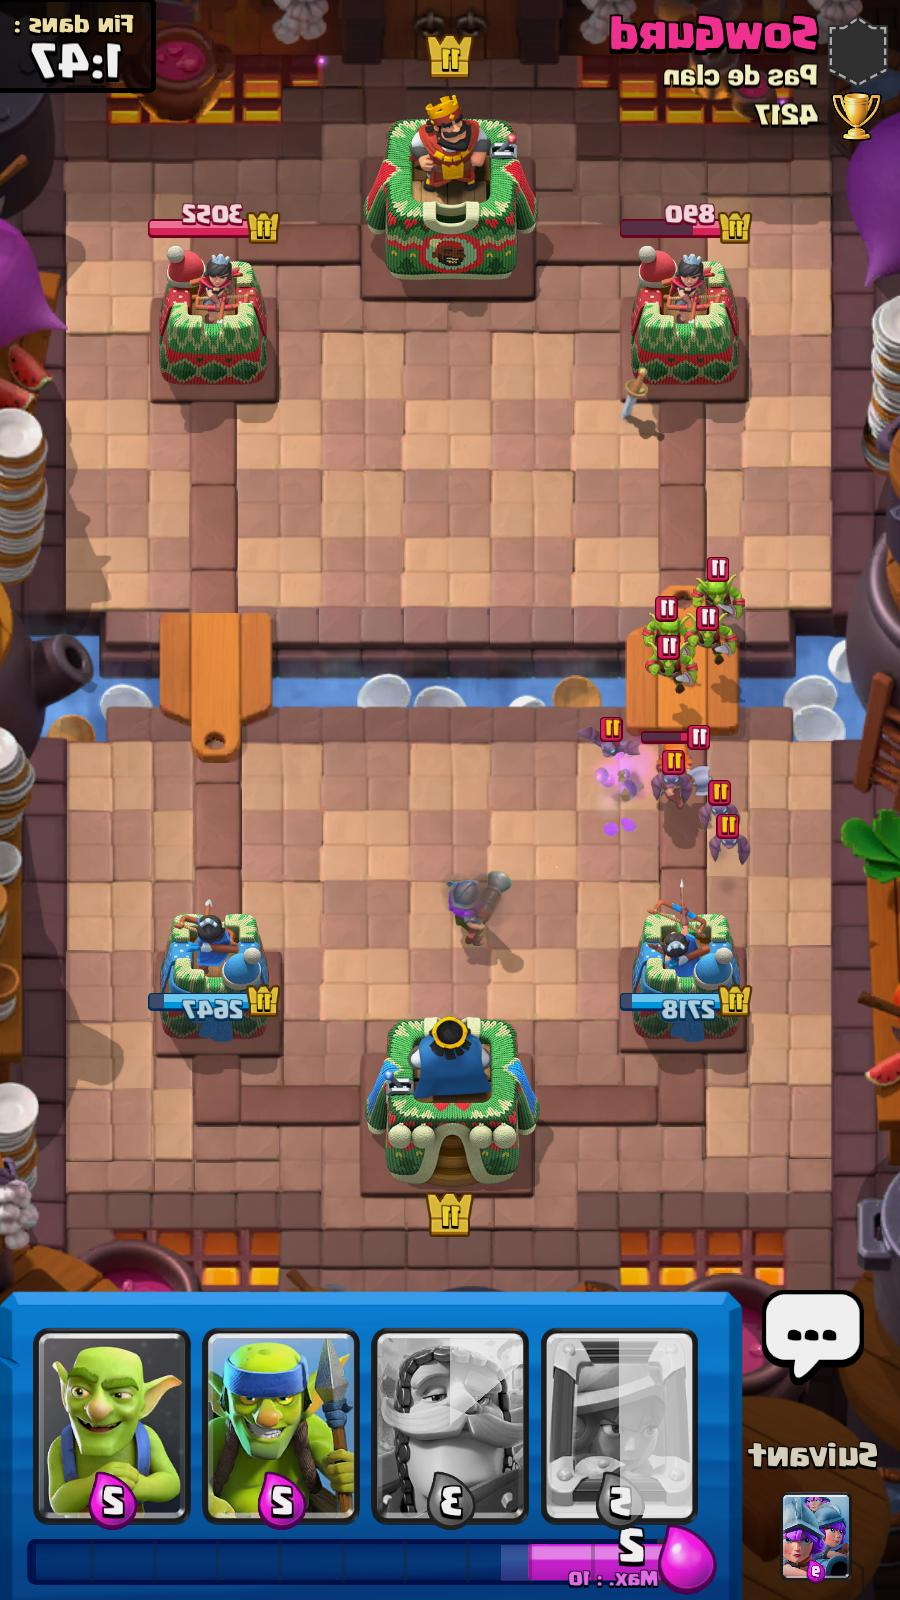bat: (580, 715, 644, 755), (712, 814, 749, 864), (700, 779, 737, 826), (653, 752, 689, 799)
gobelin: (685, 602, 733, 670), (692, 559, 740, 616), (645, 597, 689, 652), (649, 634, 689, 695)
mousquetaire: (443, 867, 515, 954)
valkyrie: (643, 730, 715, 789)
